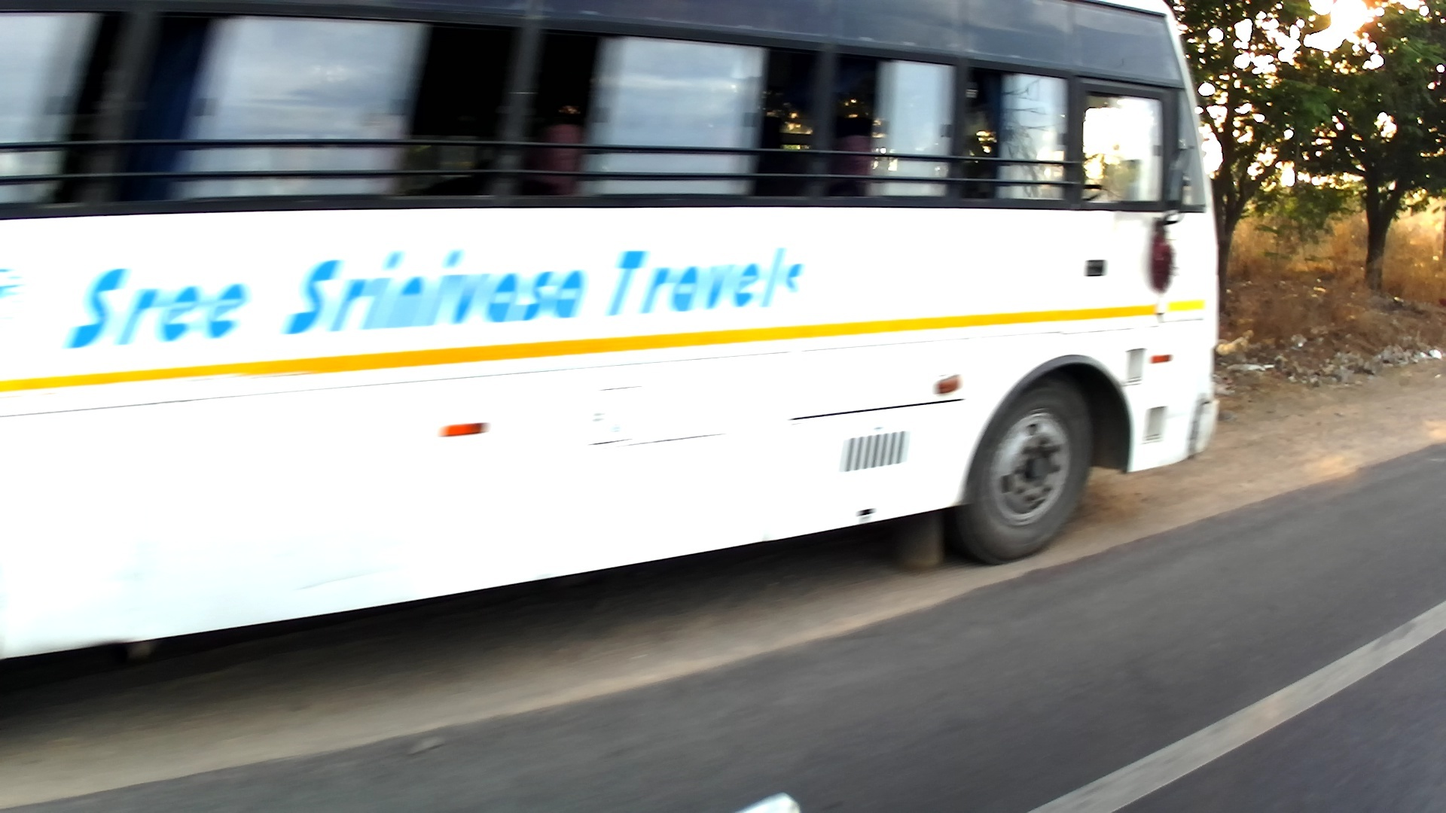bus: (1, 1, 1227, 654)
